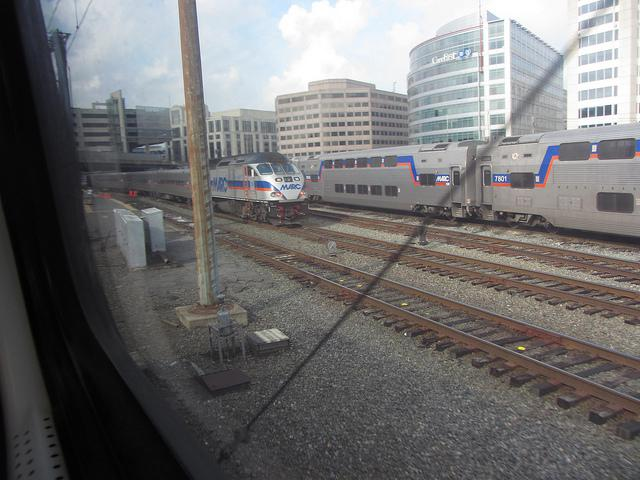Train: (294, 123, 640, 241), (90, 154, 311, 225)
